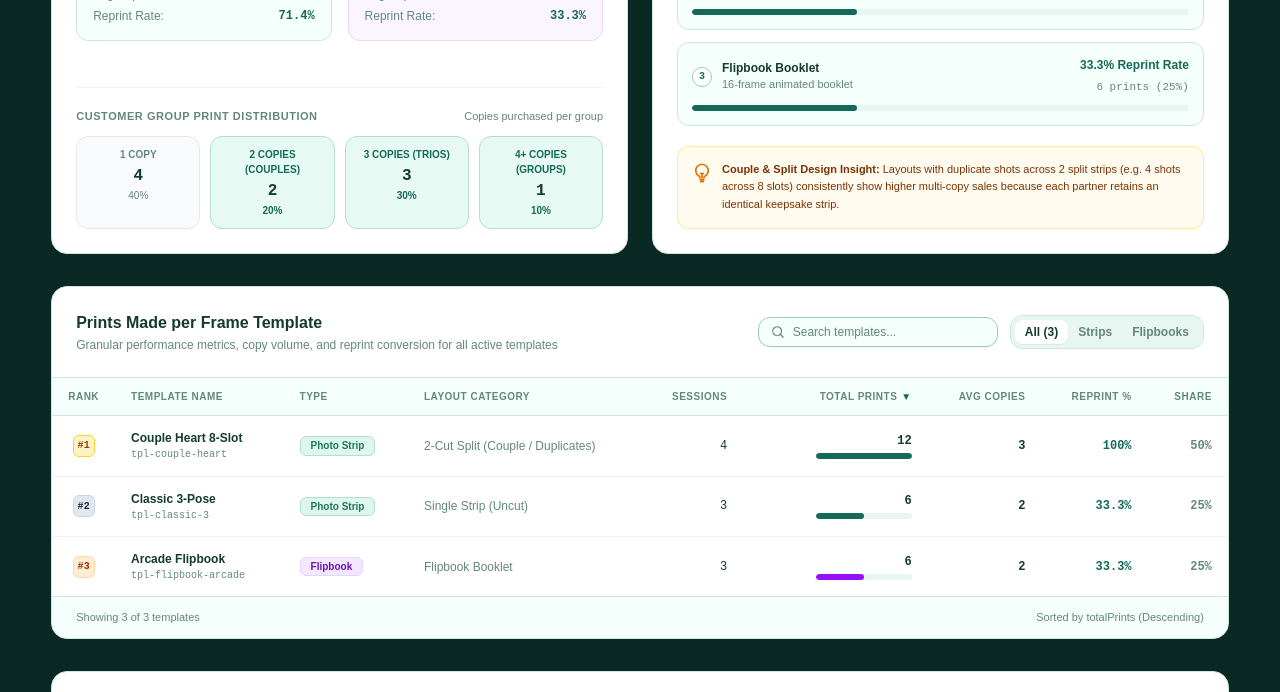
Test: AdminAnalyticsPage › filters templates table by search query and type filter
The image size is (1280, 692).
(page scrolled)
Expected: the text "Couple Heart 8-Slot" is shown, [131,432,242,446]
Expected: the text "Classic 3-Pose" is shown, [131,492,216,506]
Note: Test search filter
In the field with placeholder "Search templates...": [889, 332] box [793,324,985,340], type "Heart"
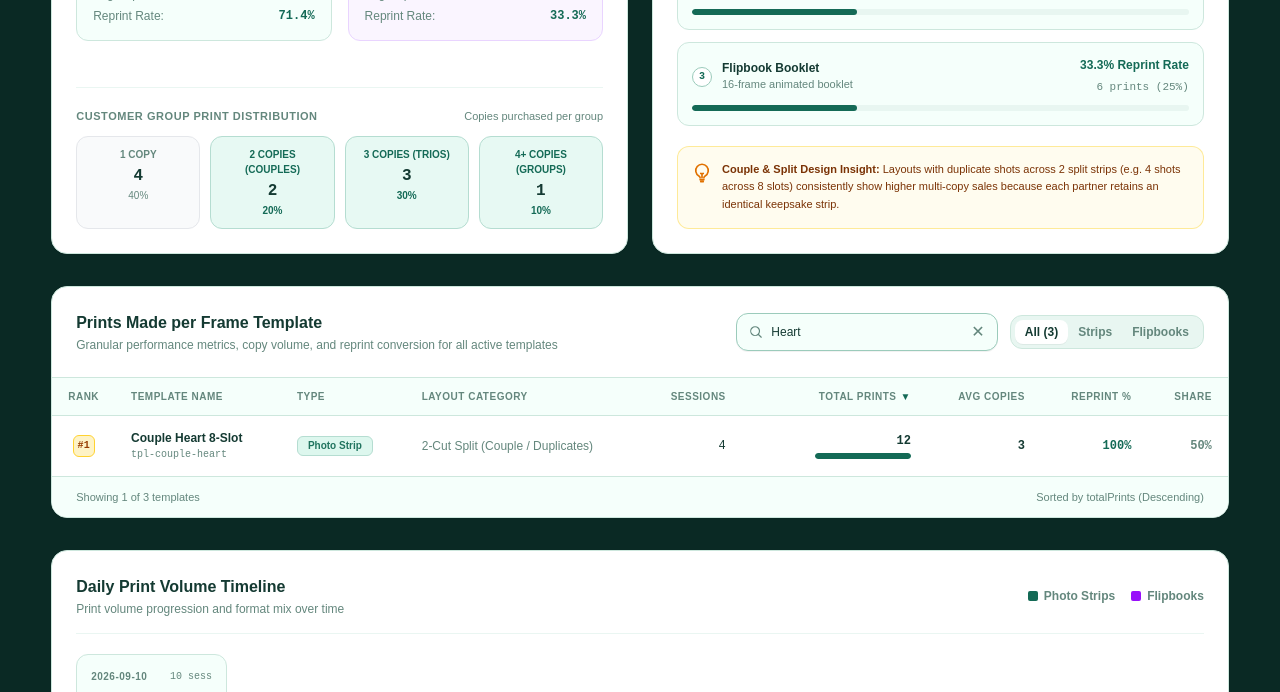
Expected: the text "Couple Heart 8-Slot" is shown, [131,432,242,446]
Expected: the text "Classic 3-Pose" is gone
Note: Reset search
Clear the field with placeholder "Search templates...": [867, 332] box [771,324,963,340]
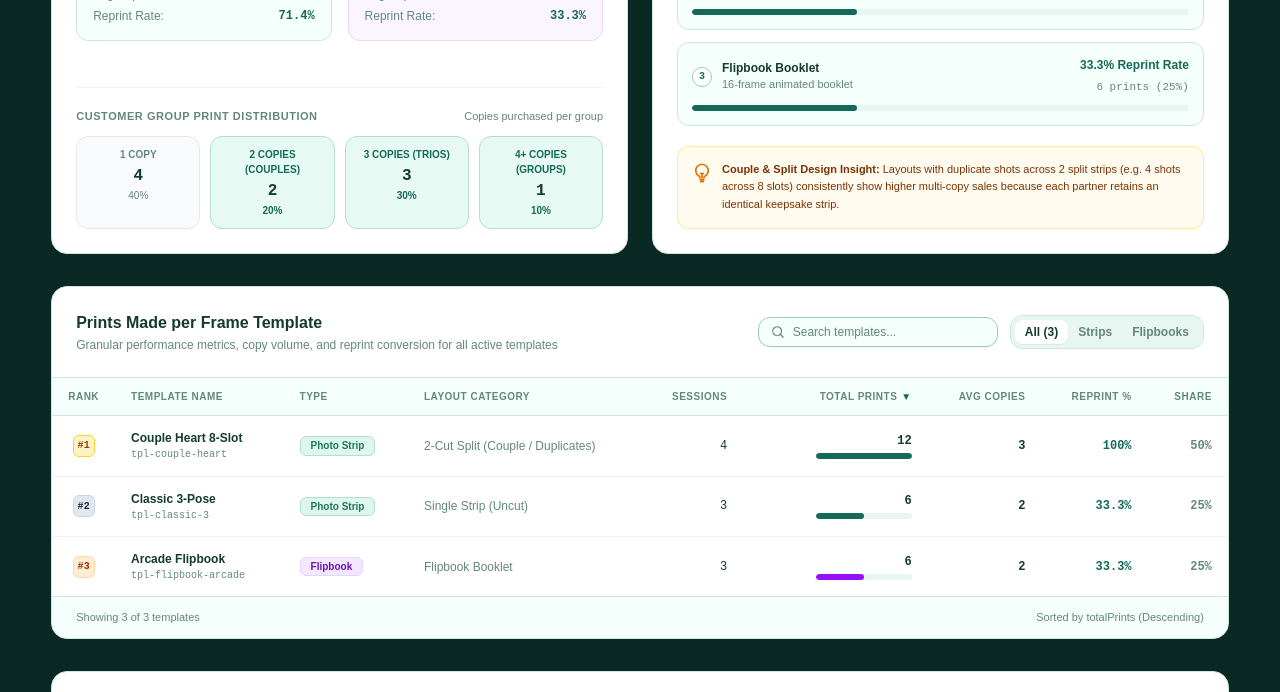
Expected: the text "Classic 3-Pose" is shown, [131,492,216,506]
Note: Filter by Flipbooks
Click the button "Flipbooks": [1160, 332] box [1122,320,1199,344]
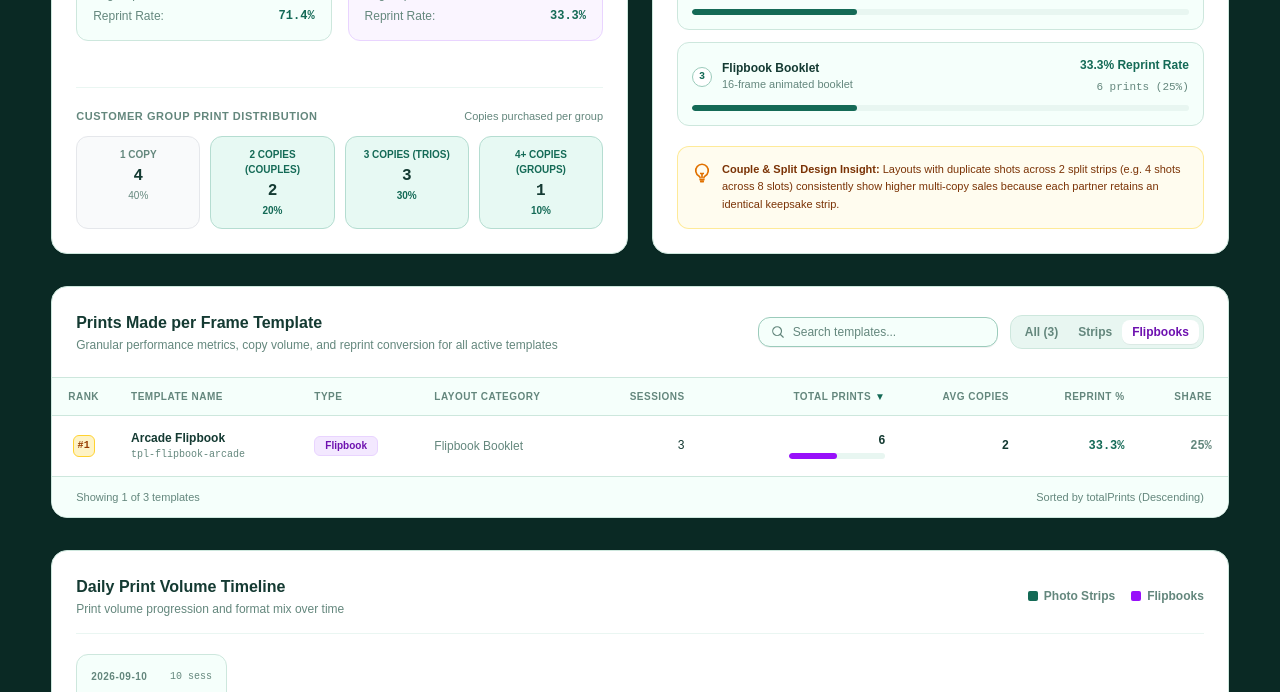
Expected: the text "Arcade Flipbook" is shown, [131,432,225,446]
Expected: the text "Classic 3-Pose" is gone
